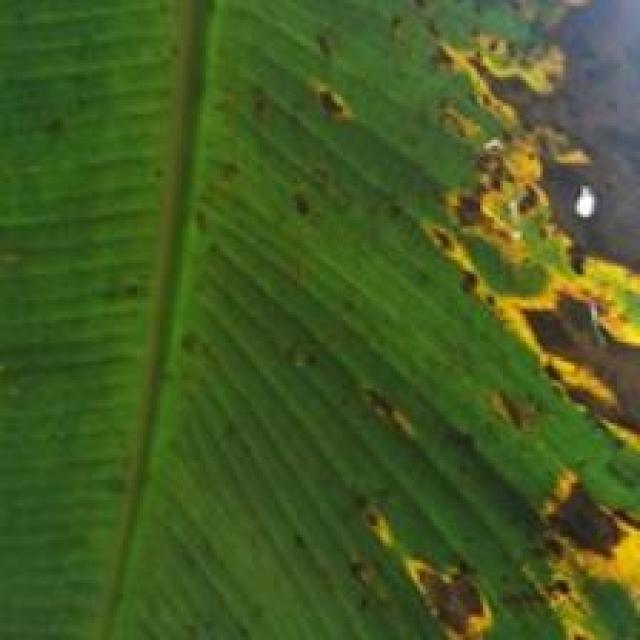Downey_mildrew: (290, 0, 640, 640)
